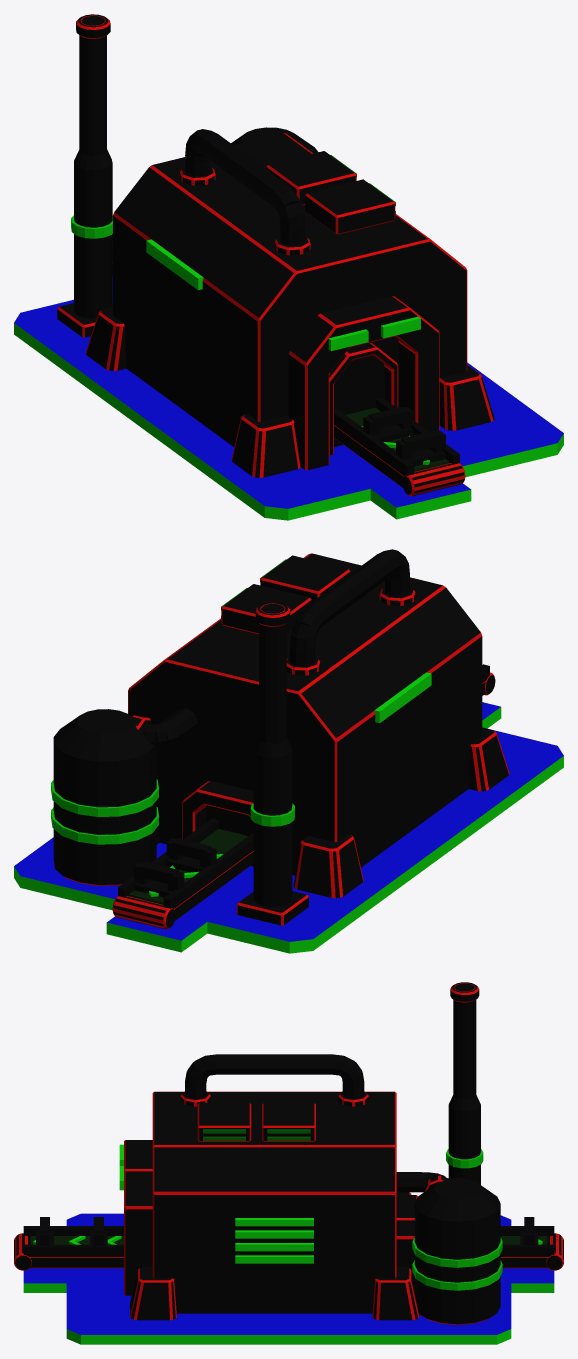
The model's file is SM_Holo_Refinery_T1.fbx.
3 views of the same model, one above another, from view 1: azimuth 30°, elevation 25°; view 2: azimuth 150°, elevation 25°; view 3: azimuth 270°, elevation 25° (orthographic). The views are drawn at different scales.
Parts seen in each view (by area): view 1: SM_Holo_Refinery_T1; view 2: SM_Holo_Refinery_T1; view 3: SM_Holo_Refinery_T1.
Part boxes in pixels (bbox=[...]): SM_Holo_Refinery_T1: bbox=[14, 14, 563, 520]; SM_Holo_Refinery_T1: bbox=[14, 549, 563, 953]; SM_Holo_Refinery_T1: bbox=[14, 982, 563, 1344].
Size of the model in its own units: 8 by 8.02 by 15.33.
